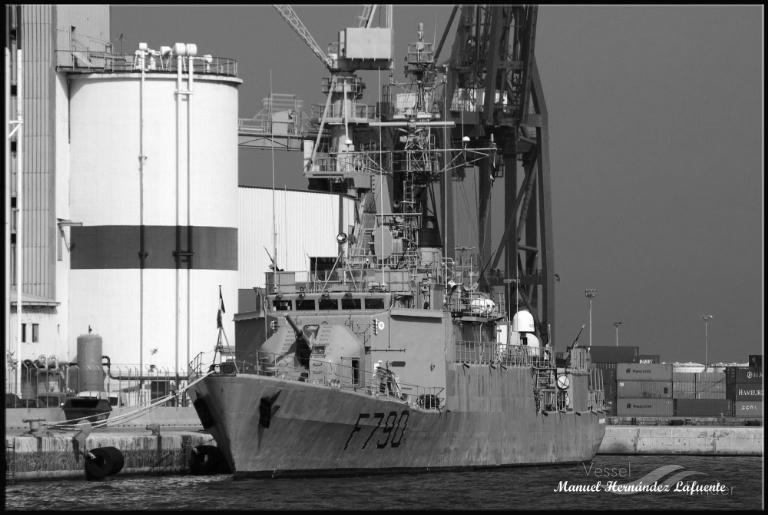OCR: (334, 401, 410, 459)
